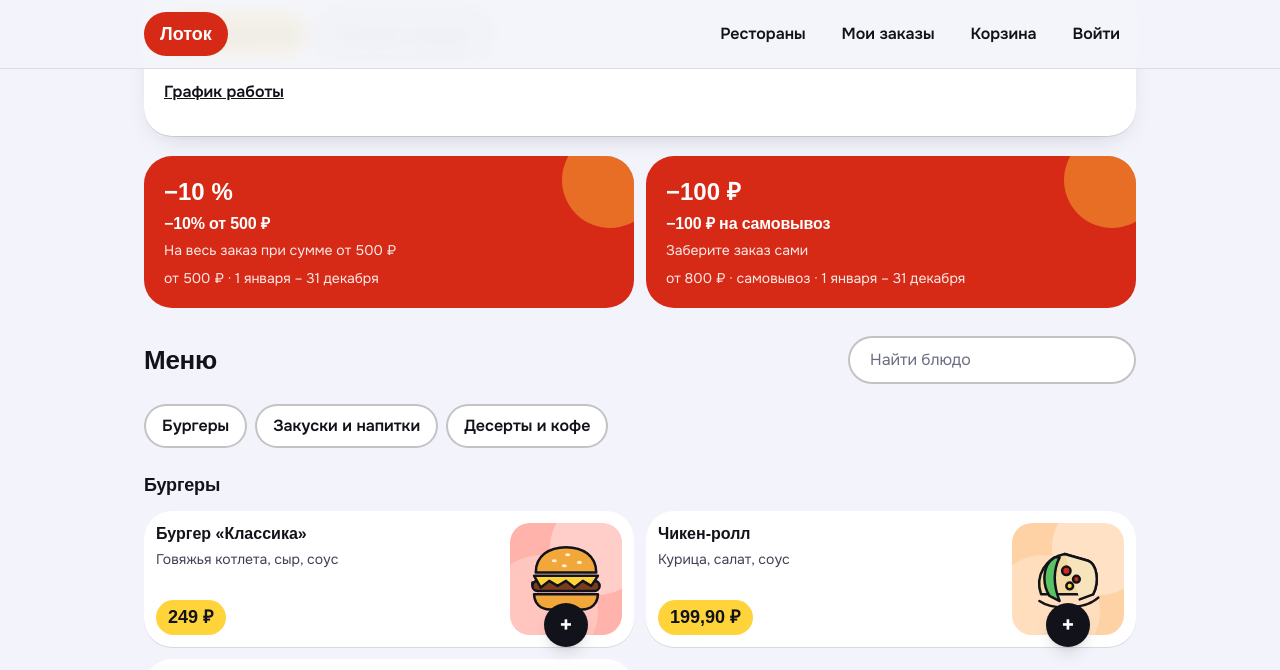
Scenario: меню › поиск по названию скрывает остальное и показывает пустую выдачу
(page scrolled)
Type "капуч" into the search field named "Поиск по меню".
click(992, 360); type("капуч")  # box [848, 336, 1136, 384]
(page scrolled)
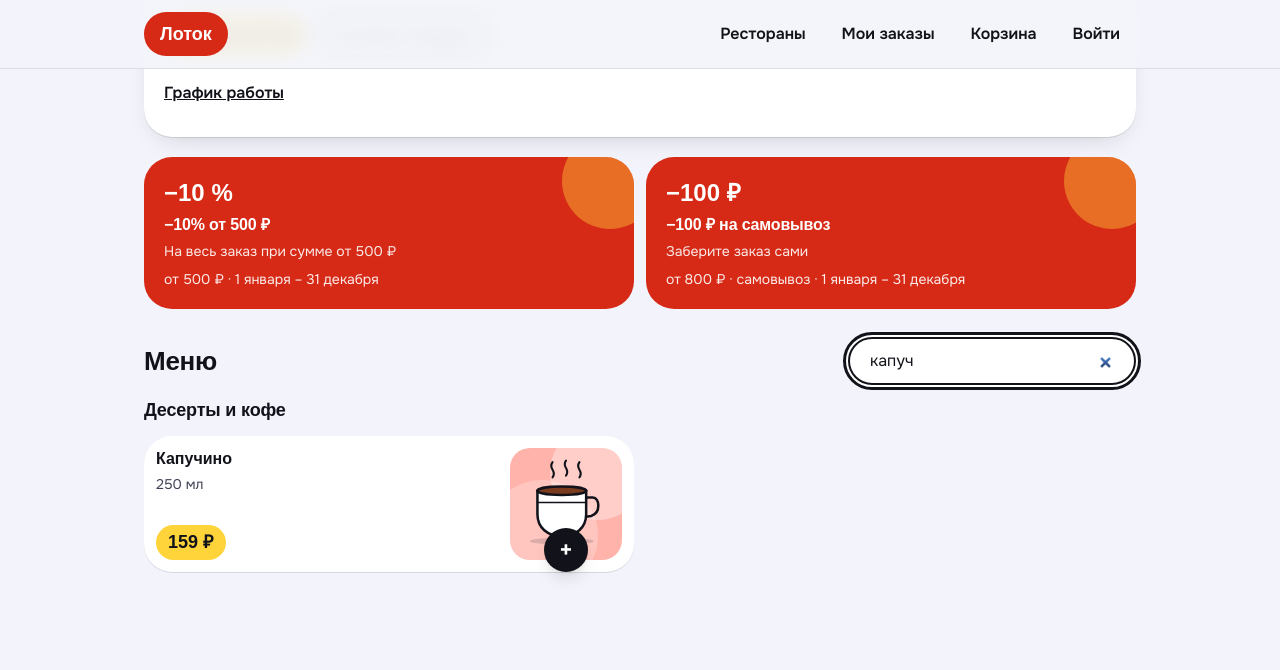
Expected: the heading "Капучино" is shown, [156, 450, 232, 467]
Clear the search field named "Поиск по меню" at (992, 361), box [848, 337, 1136, 385]
(page scrolled)
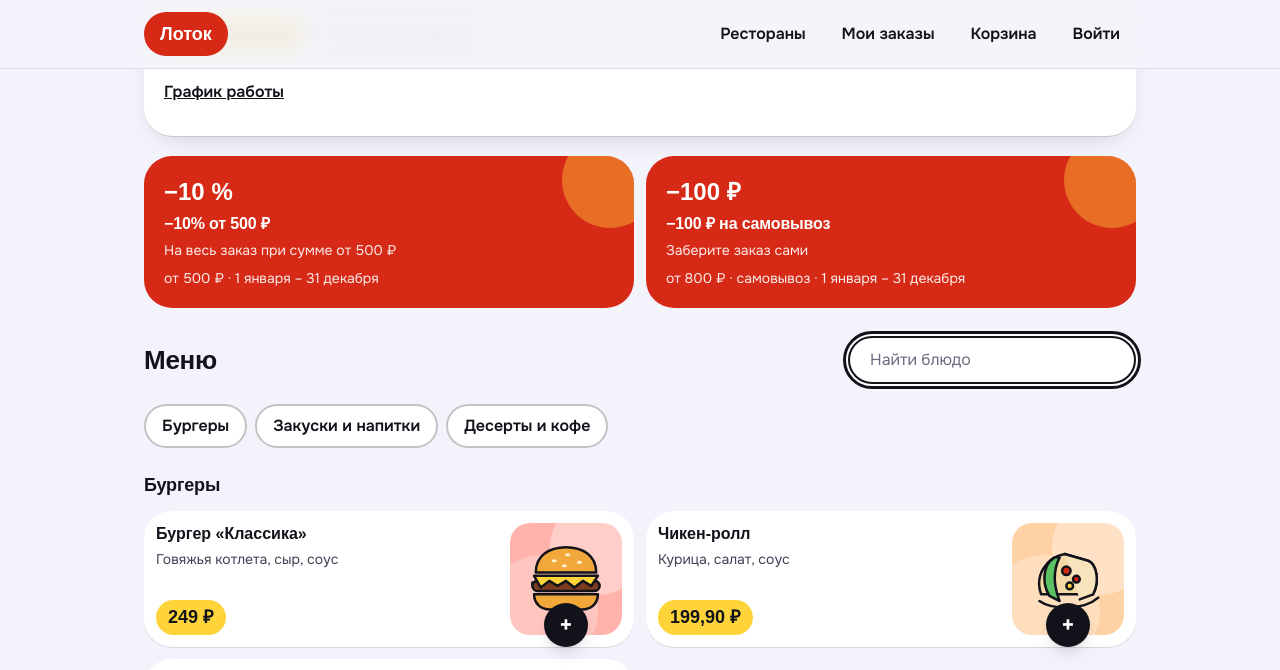
Type "борщ" into the search field named "Поиск по меню".
click(992, 360); type("борщ")  # box [848, 336, 1136, 384]
(page scrolled)
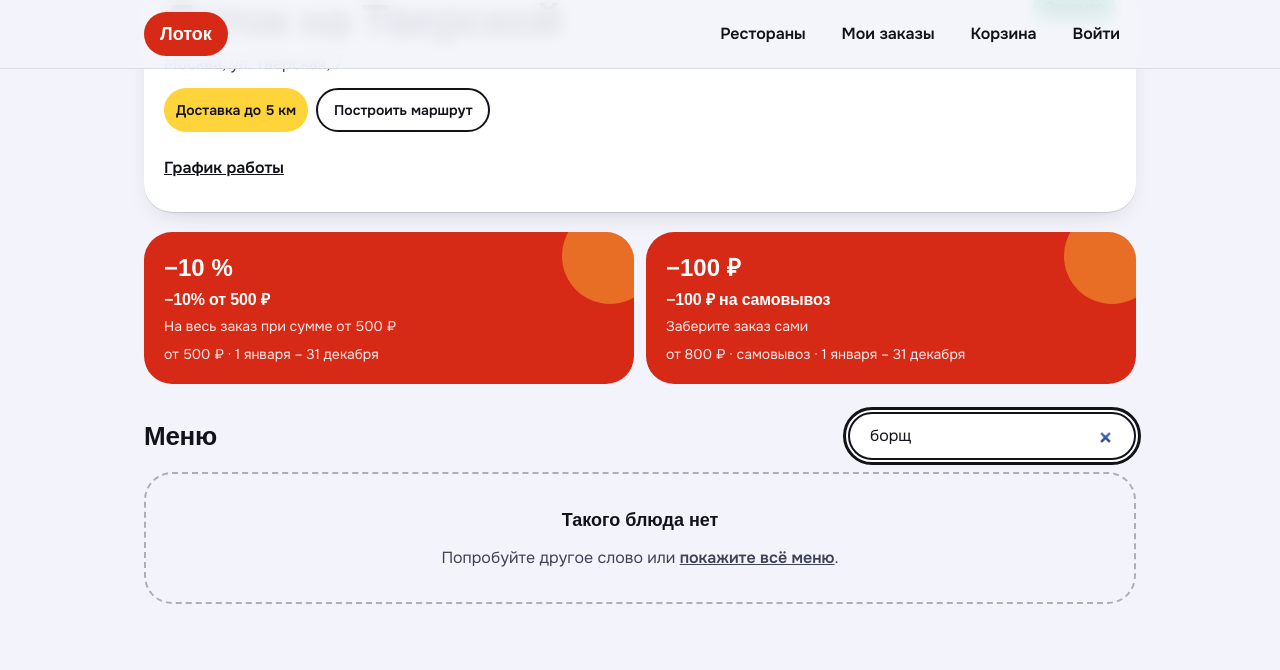
Now the text "Такого блюда нет" is shown, box [562, 510, 718, 530]
